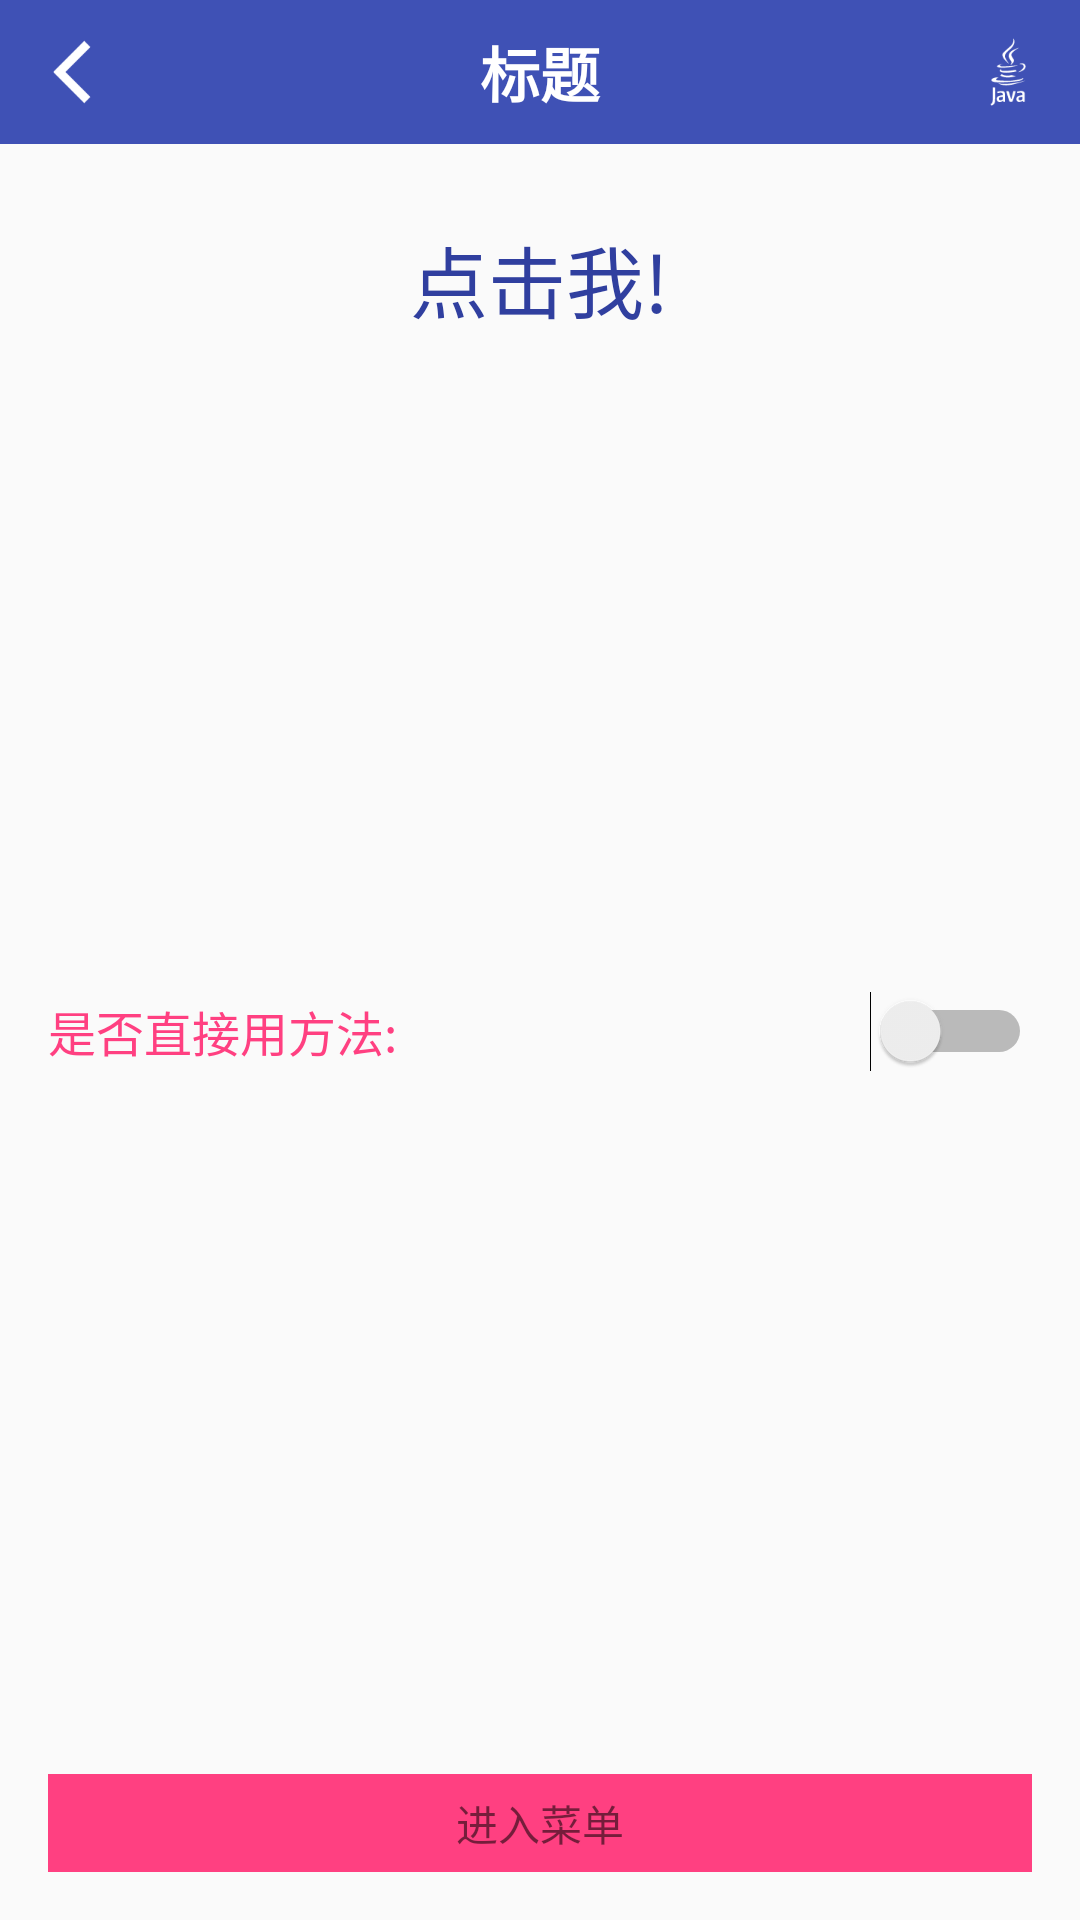

Named icons in this screenshot (1080px x 1920px) and their bounding boxes, (x1, y1, x2, y2):
title back: (53, 41, 90, 103)
